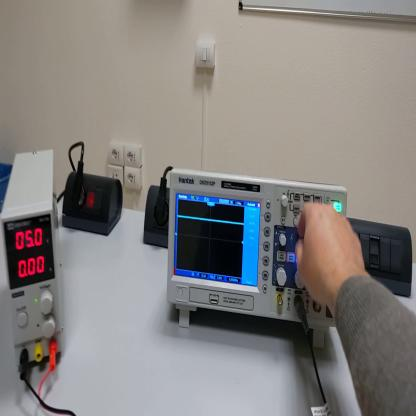hand: (295, 203, 368, 308)
oscilloscope: (170, 166, 347, 353)
power supply: (2, 146, 65, 364)
socket: (61, 171, 125, 240), (144, 184, 169, 250)
